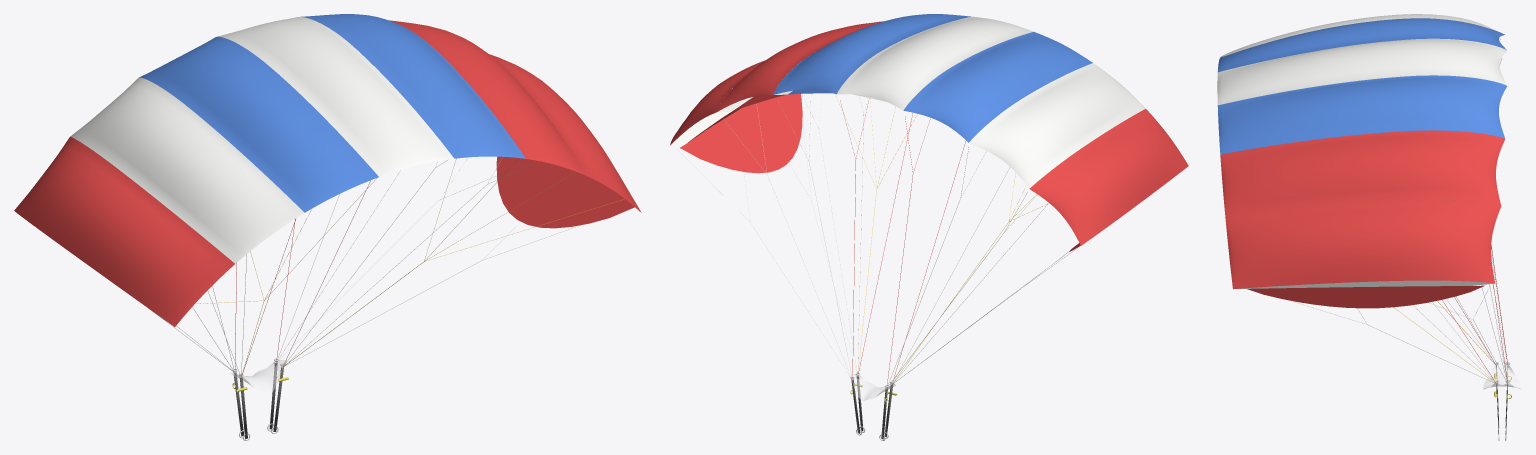
The model's file is PD_CFStorm_150.glb.
3 renders of one model, left to right at view 1: azimuth 30°, elevation 25°; view 2: azimuth 150°, elevation 25°; view 3: azimuth 270°, elevation 25°, orthographic. The views are drawn at different scales.
Visible parts, largest first — view 1: TopSkin, Stabilizers, Lines, Risers, SteeringLines, Slider; view 2: TopSkin, Stabilizers, Lines, Ribs, Risers, SteeringLines, BottomSkin, Slider; view 3: TopSkin, Stabilizers, Lines, Ribs, Slider.
Part boxes in pixels (left/top/right/bottom): TopSkin: left=14, top=14, right=641, bottom=326; Stabilizers: left=496, top=156, right=634, bottom=228; Lines: left=152, top=157, right=579, bottom=377; Risers: left=232, top=360, right=288, bottom=440; SteeringLines: left=196, top=158, right=624, bottom=387; Slider: left=230, top=358, right=286, bottom=392; TopSkin: left=670, top=14, right=1188, bottom=245; Stabilizers: left=680, top=94, right=1080, bottom=251; Lines: left=677, top=93, right=1078, bottom=388; Ribs: left=670, top=54, right=974, bottom=145; Risers: left=850, top=375, right=897, bottom=440; SteeringLines: left=835, top=94, right=1047, bottom=381; BottomSkin: left=688, top=89, right=887, bottom=142; Slider: left=849, top=373, right=895, bottom=400; TopSkin: left=1217, top=14, right=1507, bottom=288; Stabilizers: left=1247, top=285, right=1484, bottom=308; Lines: left=1289, top=59, right=1507, bottom=383; Ribs: left=1233, top=33, right=1504, bottom=289; Slider: left=1483, top=360, right=1521, bottom=389.
Size of the model in its own units: 4.73 by 3.79 by 2.69.
